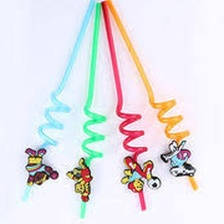drinking_straw: (102, 0, 203, 195), (14, 0, 98, 205), (97, 0, 166, 215), (62, 0, 112, 222)
